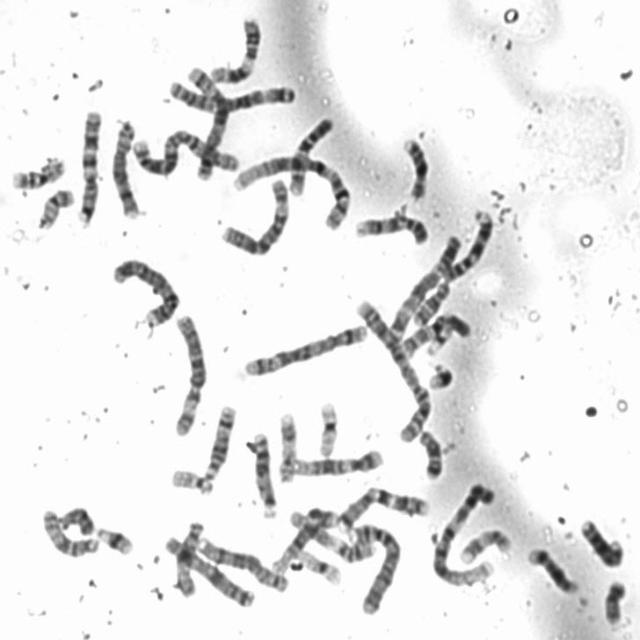A1: (227, 151, 353, 232), (429, 481, 497, 588)
A2: (353, 295, 432, 442), (127, 127, 242, 177)
A3: (385, 232, 464, 340), (164, 75, 298, 115)
B4: (108, 253, 181, 329), (347, 519, 402, 616)
B5: (240, 320, 369, 379), (182, 64, 231, 182)
C10: (284, 113, 336, 197), (396, 312, 472, 360)
C11: (288, 509, 379, 566), (207, 12, 262, 86)
C12: (269, 502, 340, 576), (284, 446, 384, 478)
C6: (217, 175, 292, 257), (168, 311, 207, 438)
C7: (335, 482, 431, 532), (73, 105, 103, 228)
C8: (194, 533, 290, 595), (108, 115, 142, 221)
C9: (438, 216, 494, 286), (351, 209, 431, 247)
D13: (247, 429, 279, 520), (577, 515, 624, 569)
D14: (202, 402, 238, 482), (525, 545, 578, 596)
D15: (39, 508, 103, 558), (172, 517, 206, 599)
E16: (8, 154, 67, 191), (399, 134, 430, 202)
E17: (456, 525, 514, 566), (275, 409, 298, 484)
E18: (409, 278, 452, 328), (414, 426, 445, 481)
F19: (298, 546, 342, 587), (314, 398, 340, 457)
F20: (34, 186, 76, 230), (602, 578, 630, 628)
G21: (94, 523, 135, 555), (424, 359, 456, 392)
G22: (424, 310, 454, 358), (169, 465, 214, 496)
X: (162, 530, 255, 608)
Y: (54, 504, 96, 536)
